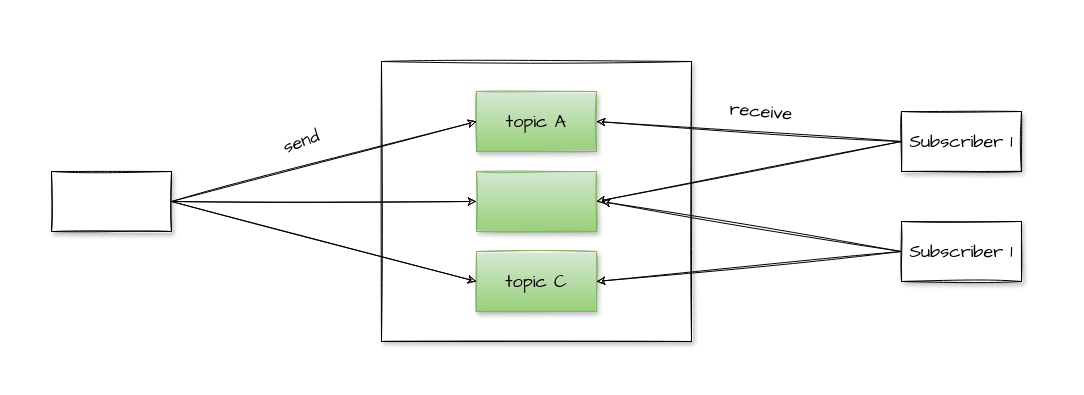
Image size: 1084x395. Some labels were removed from this diagram. The centre of each missing label's shape, as x and y in pixels:
"Publisher" goes at (x=112, y=202).
"topic B" goes at (x=537, y=202).
